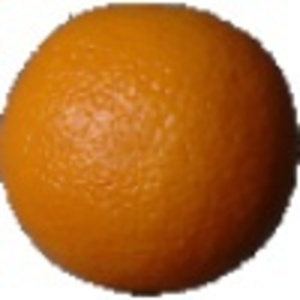laranja: (4, 2, 297, 298)
